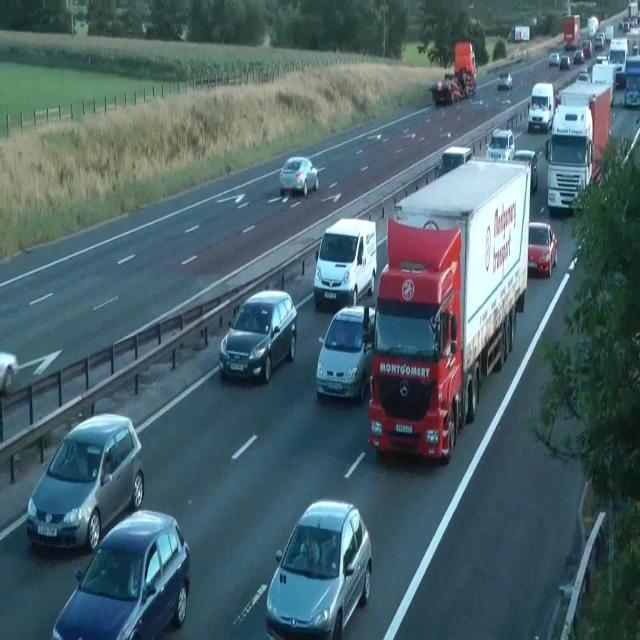bus: (265, 499, 372, 639), (527, 220, 557, 278), (279, 155, 319, 197), (558, 552, 590, 599), (510, 148, 538, 192), (486, 127, 514, 161), (430, 78, 462, 106), (0, 351, 18, 395), (624, 85, 640, 107), (496, 72, 512, 90), (576, 69, 590, 83), (582, 39, 592, 58), (594, 33, 604, 50), (548, 52, 560, 66), (559, 55, 571, 69), (573, 49, 584, 64), (618, 20, 630, 31)
car: (545, 103, 593, 216)
jeep: (52, 508, 190, 638), (26, 412, 144, 554), (218, 288, 298, 383), (313, 217, 377, 309), (315, 304, 375, 402), (527, 82, 554, 133), (436, 145, 472, 179)
minibus: (367, 157, 531, 464), (557, 78, 611, 182), (429, 40, 476, 106), (454, 40, 476, 96), (591, 60, 615, 106), (563, 13, 579, 50), (507, 25, 529, 43), (587, 15, 599, 38), (628, 1, 640, 21)
